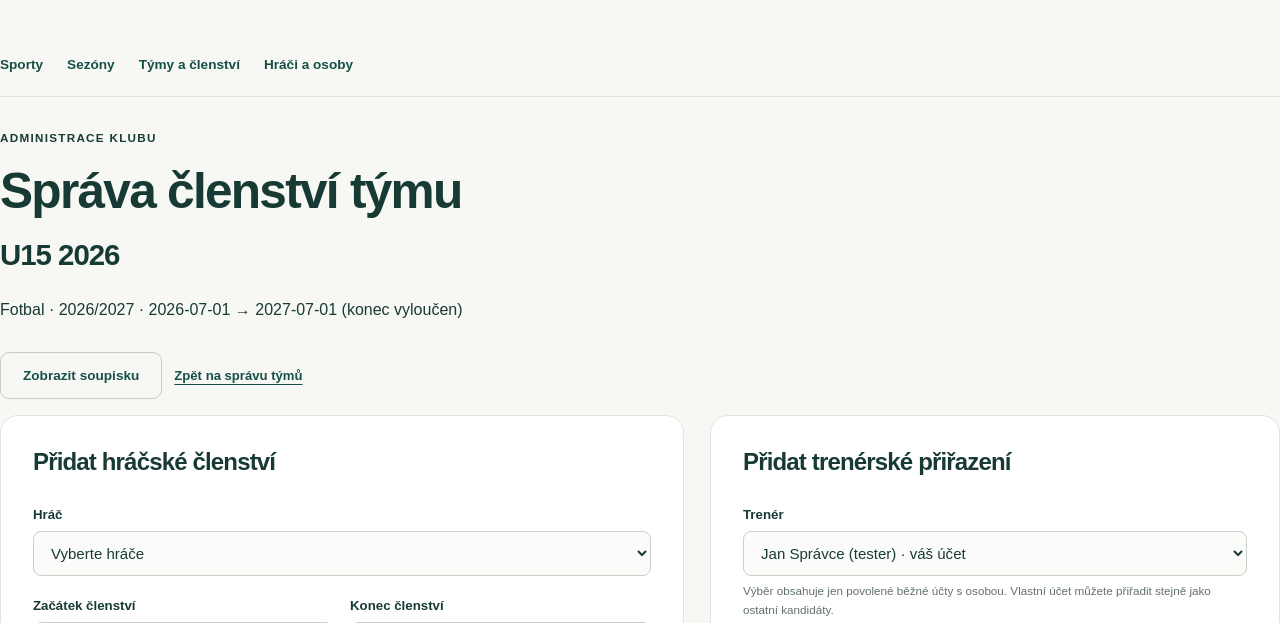
Test: P2 přístup a formuláře › konflikt členství zachová rozepsaný interval a neopakuje mutaci
Select "Jan Testovací · 2012-01-01" in the dropdown labelled "Hráč" at (342, 554), box [33,531,651,576]
(page scrolled)
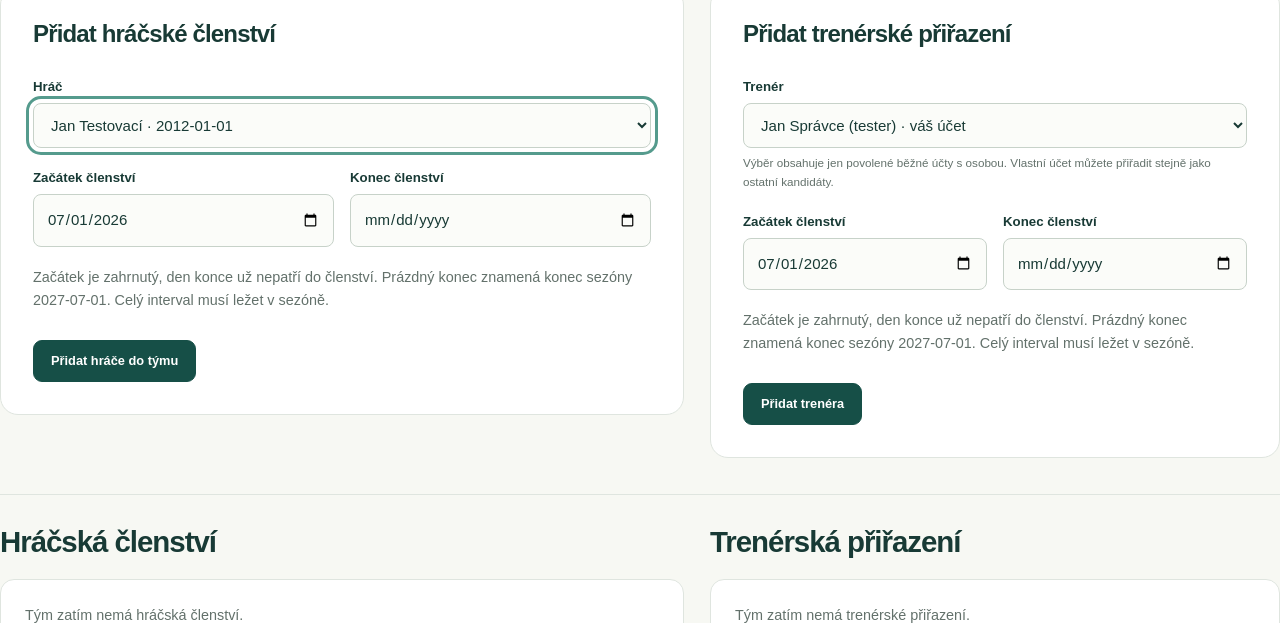
Click the button "Přidat hráče do týmu".
click(115, 361)  # box [33,340,196,382]
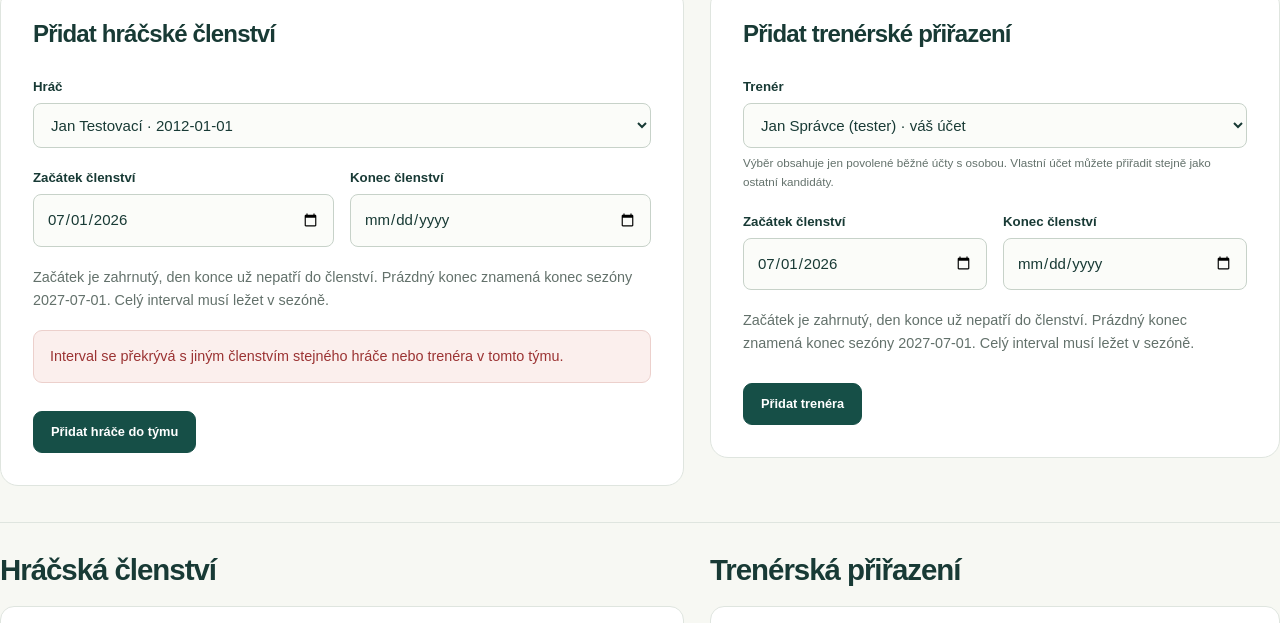
Expected: the date field labelled "Začátek členství" below "Přidat hráčské členství" holds "2026-07-01", [33,194,334,247]
Expected: the message shows "překrývá", [50,348,564,364]
